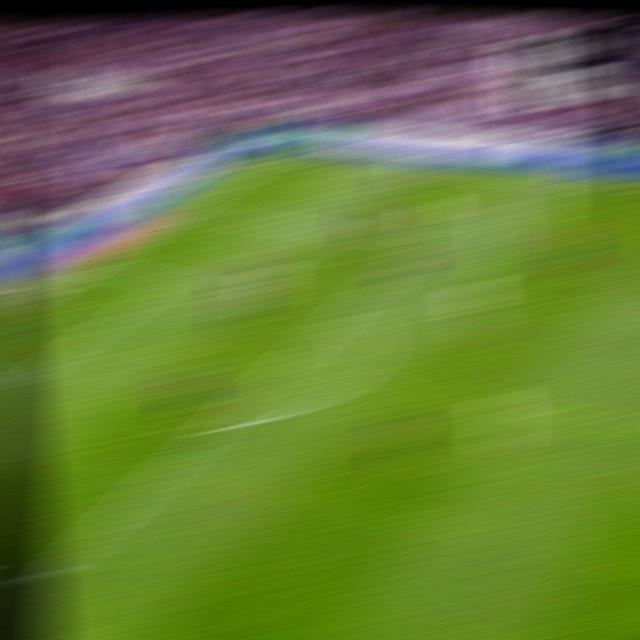bigarea_bottom_inner: (28, 558, 71, 590)
bigarea_top_outter: (170, 203, 204, 217)
bottom_arc_area_intersection: (197, 418, 233, 437)
corner: (260, 150, 297, 161)
smallarea_top_inner: (156, 271, 192, 287)
top_arc_area_intersection: (323, 304, 360, 324)
